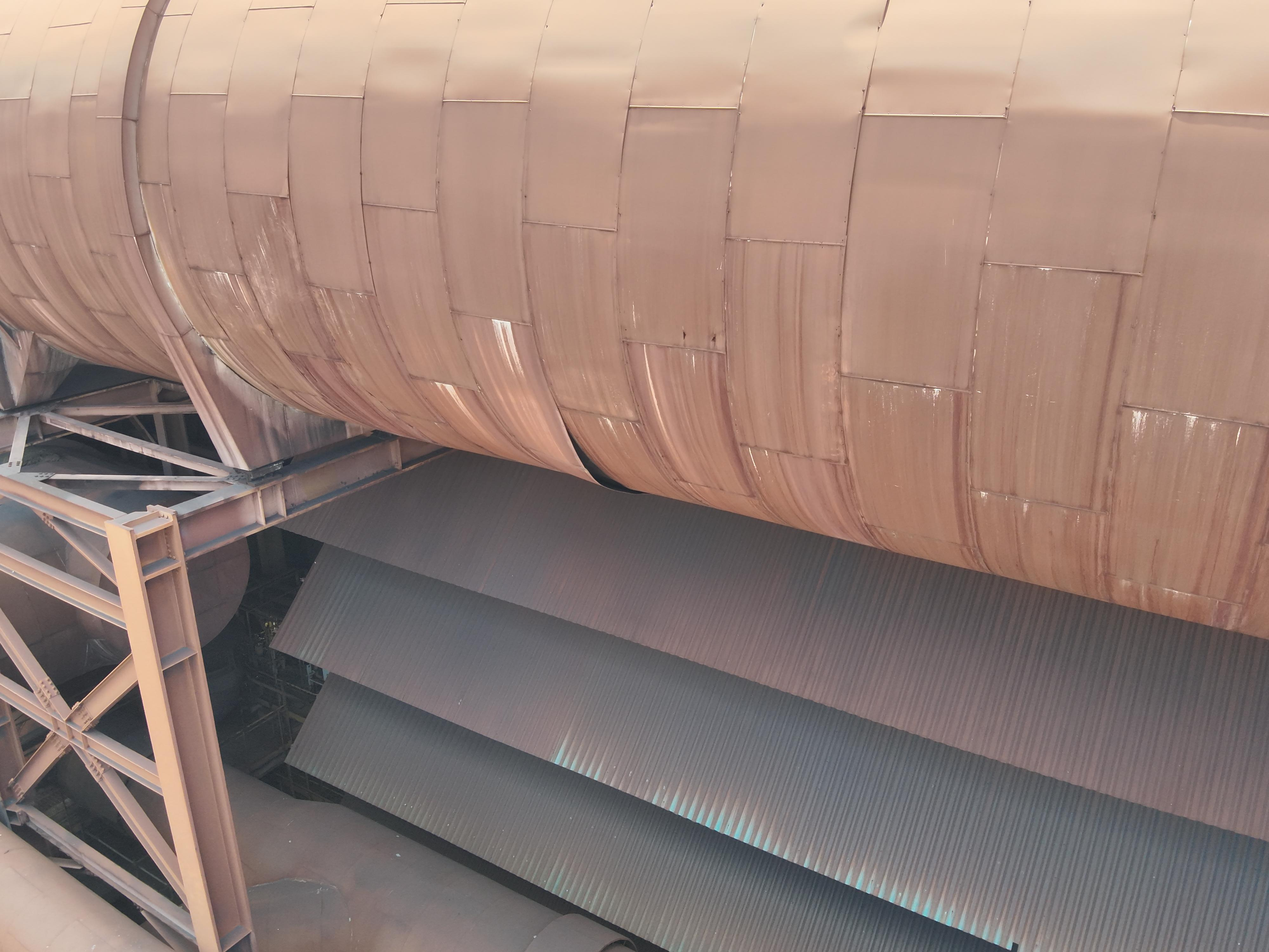Failures: (490, 309, 646, 511)
